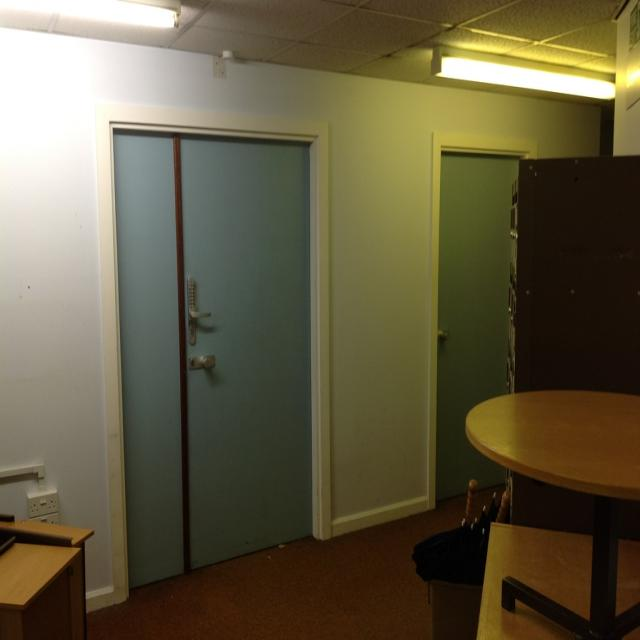desk: (0, 506, 100, 640)
